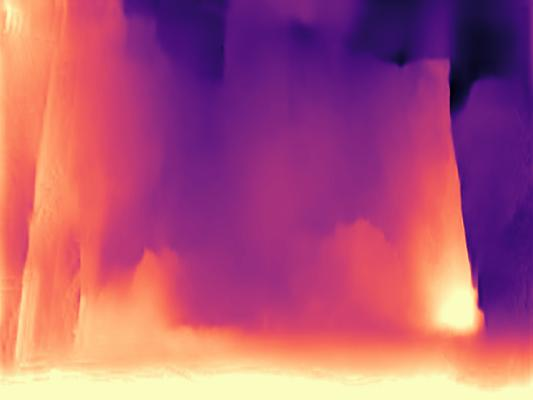painting: (16, 42, 488, 340)
